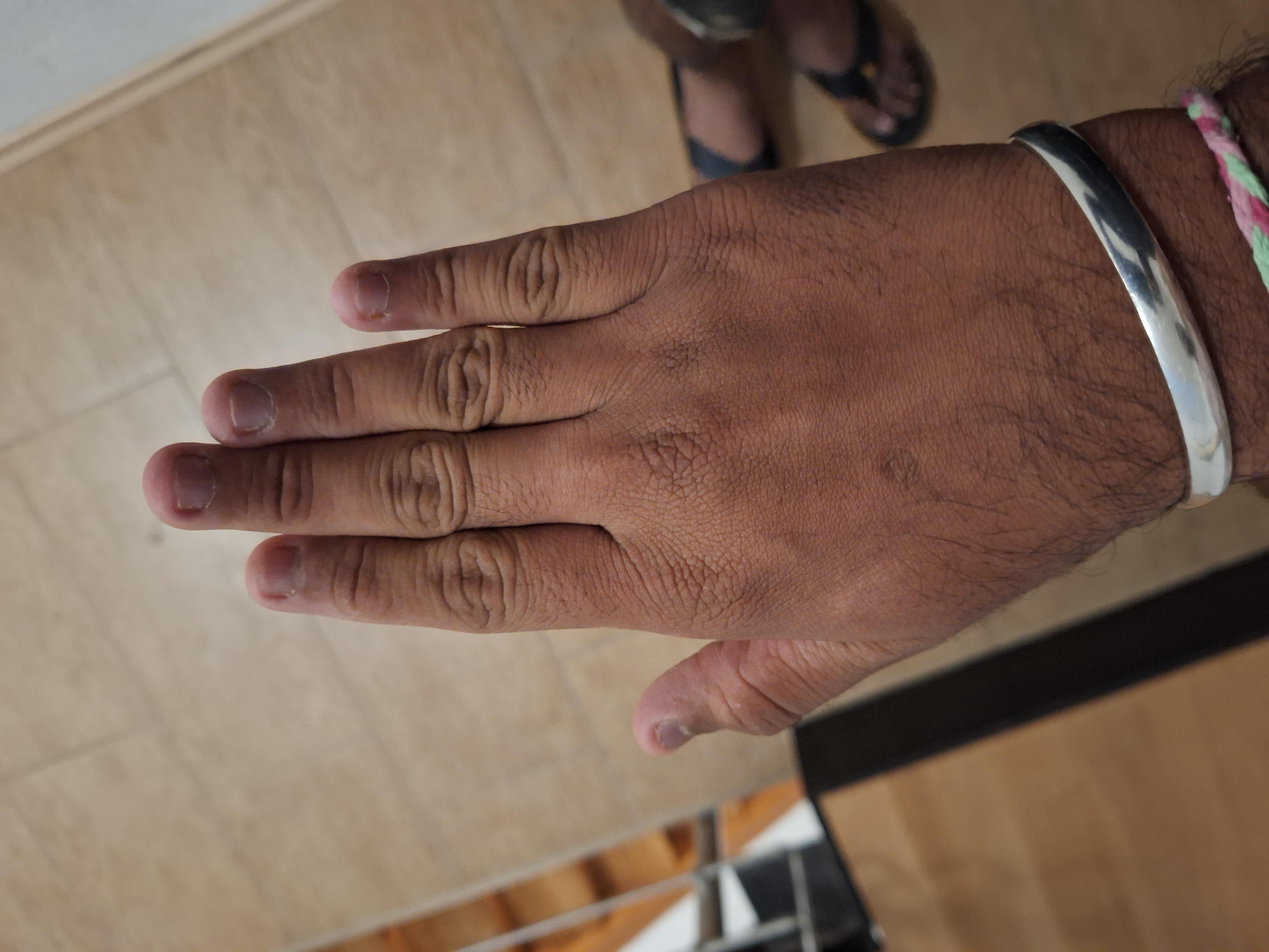Fingernail: (231, 382, 273, 436), (174, 457, 216, 511), (262, 548, 304, 596), (356, 274, 389, 320), (657, 721, 691, 753)
